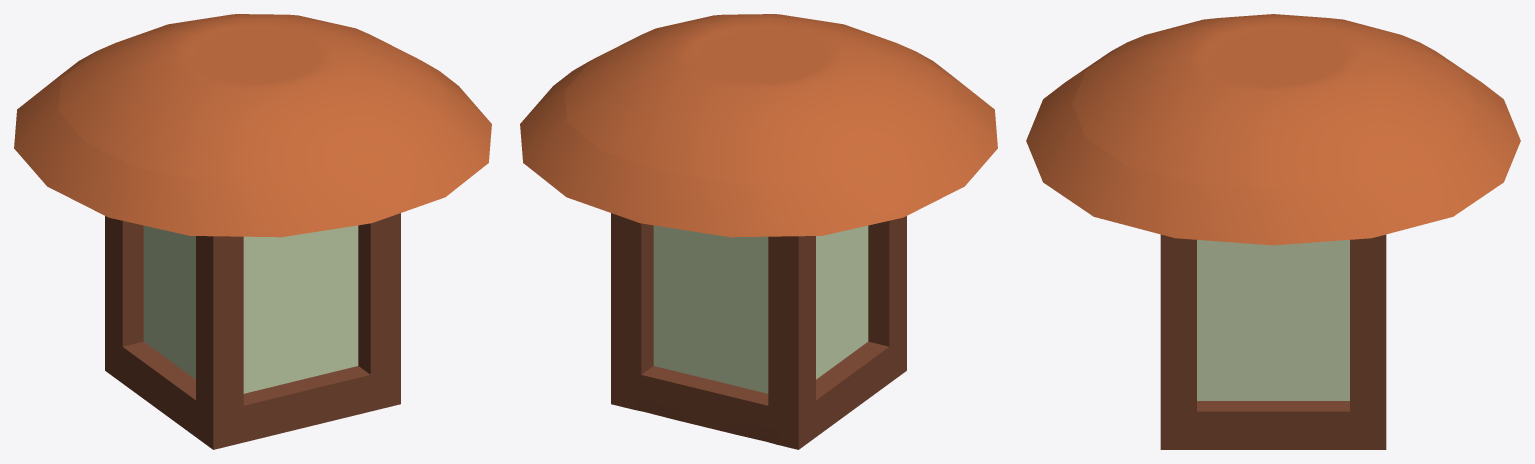
The model's file is lamp_03.fbx.
3 renders of one model, left to right at view 1: azimuth 30°, elevation 25°; view 2: azimuth 150°, elevation 25°; view 3: azimuth 270°, elevation 25°, orthographic. The views are drawn at different scales.
Parts seen in each view (by area): view 1: Cube.121; view 2: Cube.121; view 3: Cube.121.
Boxes of the visible parts, <box> form: Cube.121: <box>14,14,491,449</box>; Cube.121: <box>520,14,997,449</box>; Cube.121: <box>1026,14,1520,449</box>.
Size of the model in its own units: 157 by 122 by 157.
